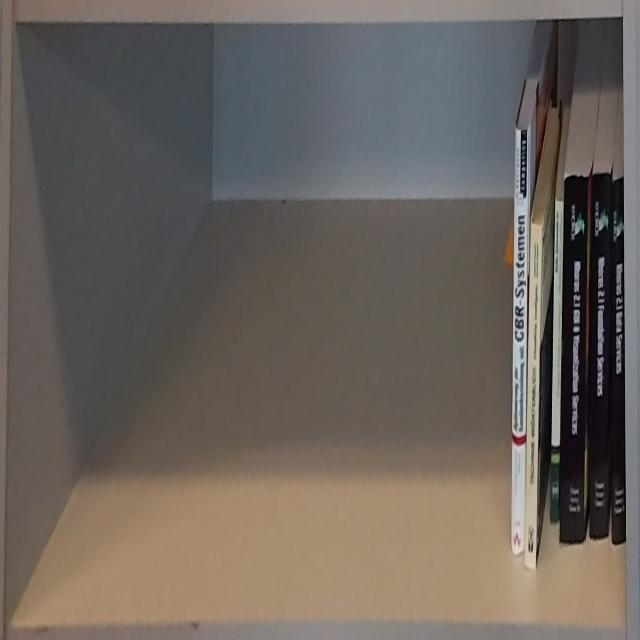Book Spine: (559, 174, 591, 546), (512, 123, 531, 555), (589, 169, 611, 540), (524, 224, 543, 569), (549, 197, 566, 526), (612, 177, 627, 543)
